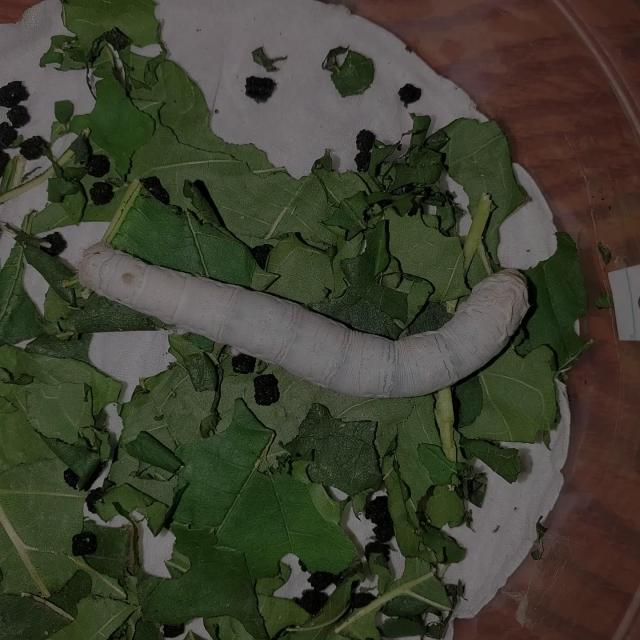Healthy: (45, 190, 567, 446)
